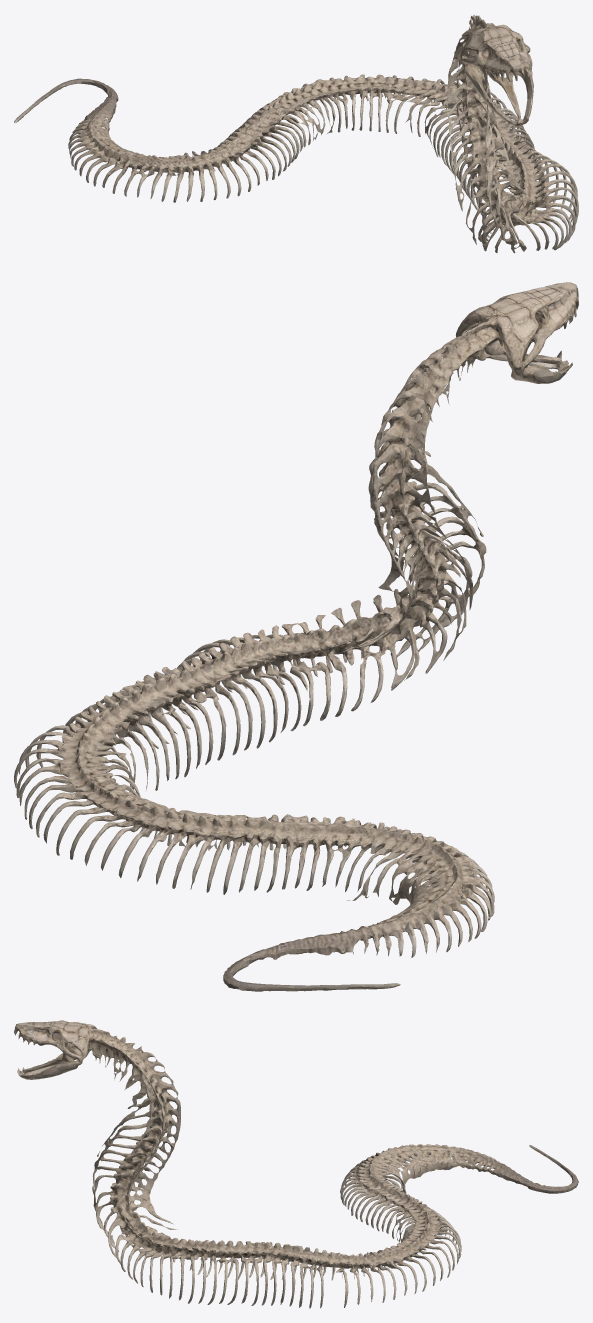
Rendered from serpent.glb.
3 views of the same model, one above another, from view 1: azimuth 30°, elevation 25°; view 2: azimuth 150°, elevation 25°; view 3: azimuth 270°, elevation 25° (orthographic). The views are drawn at different scales.
Visible parts, largest first — view 1: output_unwrapped; view 2: output_unwrapped; view 3: output_unwrapped.
Boxes of the visible parts, x1=… form: output_unwrapped: x1=14, y1=15, x2=578, y2=253; output_unwrapped: x1=14, y1=282, x2=578, y2=991; output_unwrapped: x1=14, y1=1020, x2=578, y2=1308.
Bounding box in the file's own units: 1.2 × 0.837 × 1.9.
Materials: 1 (1 with a texture image).
